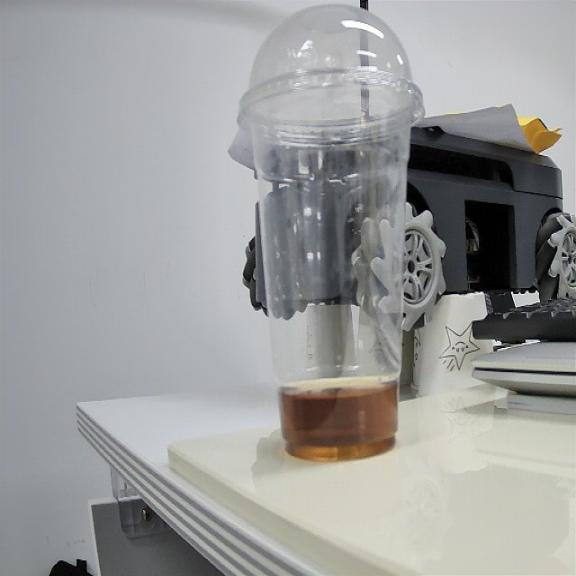Plastik: (237, 6, 423, 460)
